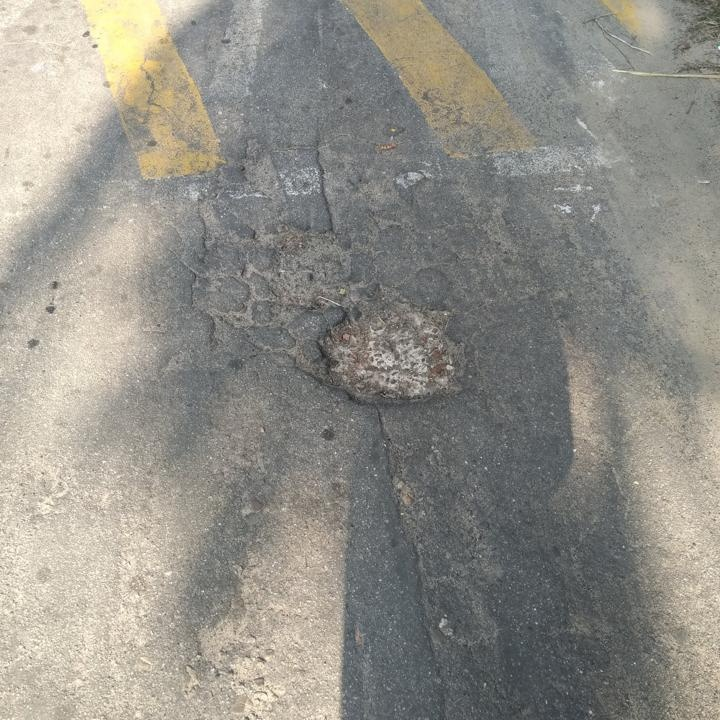pothole: (310, 293, 474, 410), (257, 221, 361, 311)
